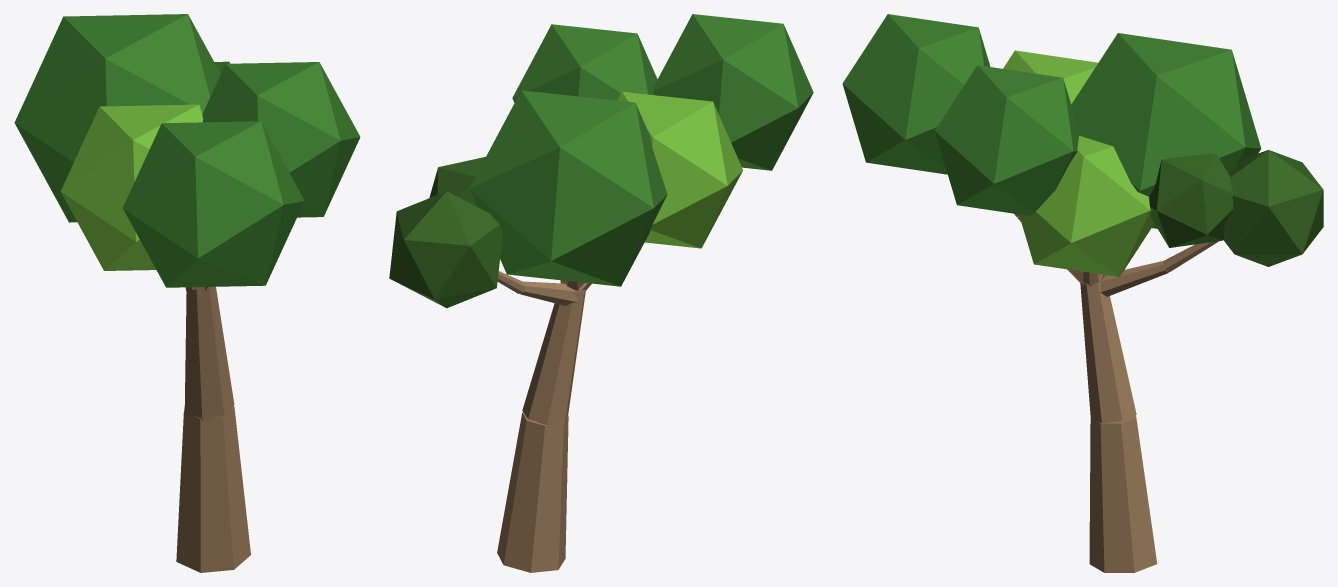
The model's file is forest-tree-deciduous.glb.
3 views of the same model, side by side, from view 1: azimuth 30°, elevation 25°; view 2: azimuth 150°, elevation 25°; view 3: azimuth 270°, elevation 25° (orthographic). The views are drawn at different scales.
Visible parts, largest first — view 1: Icosphere.004, Icosphere.006, Icosphere.005, Icosphere.003, Trunk0, Trunk1; view 2: Icosphere.006, Icosphere.004, Icosphere.003, Icosphere, Trunk0, Icosphere.005, Trunk1, Icosphere.001, Branch0a; view 3: Icosphere.006, Icosphere.005, Icosphere.004, Icosphere.002, Icosphere, Trunk0, Icosphere.001, Trunk1, Icosphere.003, Branch0a.
Boxes of the visible parts, bbox=[...] form: Icosphere.004: bbox=[123, 121, 304, 287]; Icosphere.006: bbox=[14, 14, 220, 222]; Icosphere.005: bbox=[202, 62, 360, 217]; Icosphere.003: bbox=[60, 104, 203, 270]; Trunk0: bbox=[176, 406, 250, 572]; Trunk1: bbox=[184, 286, 234, 421]; Icosphere.006: bbox=[469, 90, 667, 286]; Icosphere.004: bbox=[653, 14, 813, 170]; Icosphere.003: bbox=[617, 91, 742, 248]; Icosphere: bbox=[389, 191, 502, 308]; Trunk0: bbox=[497, 412, 568, 572]; Icosphere.005: bbox=[512, 24, 657, 102]; Trunk1: bbox=[522, 290, 585, 425]; Icosphere.001: bbox=[429, 157, 485, 206]; Branch0a: bbox=[519, 281, 578, 305]; Icosphere.006: bbox=[1071, 33, 1261, 228]; Icosphere.005: bbox=[935, 65, 1078, 215]; Icosphere.004: bbox=[842, 14, 990, 174]; Icosphere.002: bbox=[1019, 135, 1154, 276]; Icosphere: bbox=[1223, 150, 1323, 266]; Trunk0: bbox=[1089, 415, 1157, 572]; Icosphere.001: bbox=[1149, 153, 1233, 247]; Trunk1: bbox=[1080, 282, 1136, 423]; Icosphere.003: bbox=[1003, 50, 1098, 104]; Branch0a: bbox=[1100, 260, 1168, 296].
Size of the model in its own units: 1.73 by 3.3 by 2.95.
